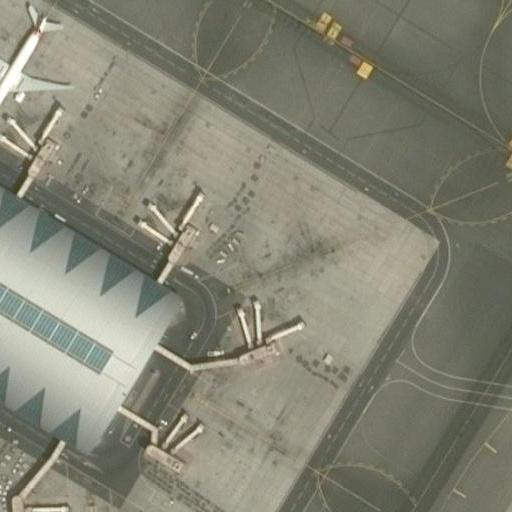Aircraft: (0, 3, 69, 141)
